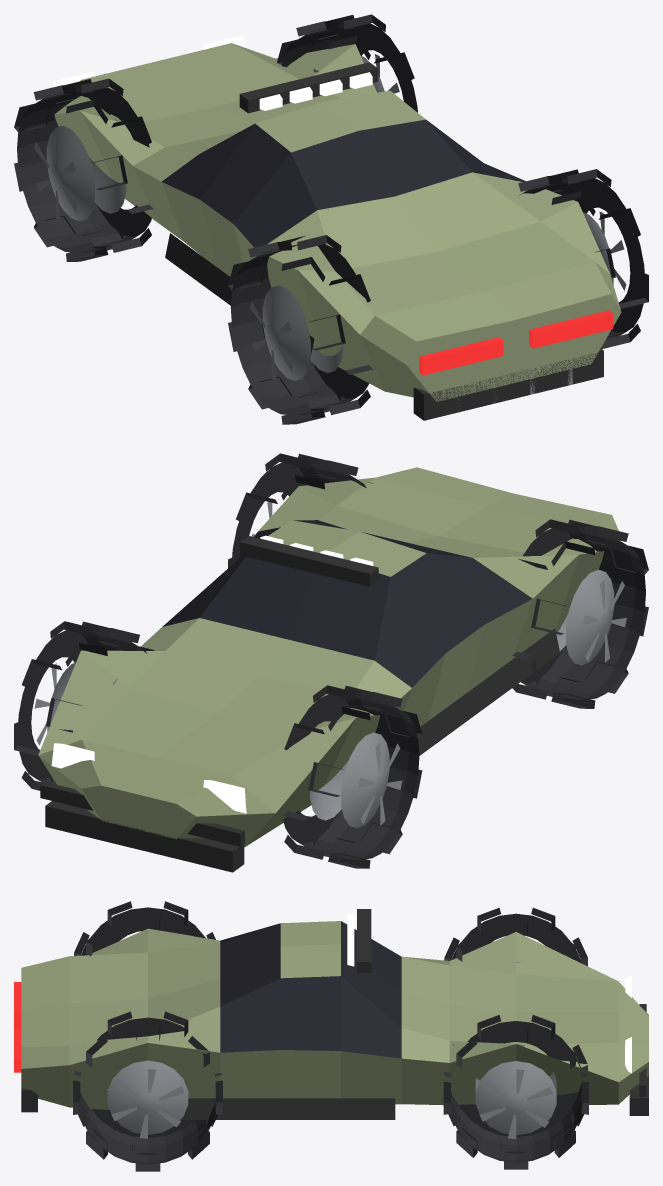
The model's file is car3.glb.
The picture shows the model from 3 angles, top to bottom: view 1: azimuth 30°, elevation 25°; view 2: azimuth 150°, elevation 25°; view 3: azimuth 270°, elevation 25°; orthographic projection. The views are drawn at different scales.
Parts seen in each view (by area): view 1: Body, Wheel_FL, Wheel_RL, Wheel_RR, Wheel_FR; view 2: Body, Wheel_FL, Wheel_RL, Wheel_FR, Wheel_RR; view 3: Body, Wheel_FR, Wheel_RR, Wheel_FL, Wheel_RL.
Part boxes in pixels (x1=…): Body: x1=53, y1=35, x2=621, y2=420; Wheel_FL: x1=14, y1=78, x2=153, y2=261; Wheel_RL: x1=228, y1=235, x2=373, y2=424; Wheel_RR: x1=518, y1=169, x2=648, y2=348; Wheel_FR: x1=277, y1=14, x2=417, y2=112; Body: x1=38, y1=467, x2=618, y2=872; Wheel_FL: x1=283, y1=685, x2=422, y2=868; Wheel_RL: x1=512, y1=519, x2=648, y2=708; Wheel_FR: x1=14, y1=621, x2=154, y2=790; Wheel_RR: x1=228, y1=453, x2=372, y2=567; Body: x1=14, y1=909, x2=648, y2=1119; Wheel_FR: x1=443, y1=1015, x2=588, y2=1169; Wheel_RR: x1=73, y1=1011, x2=222, y2=1171; Wheel_FL: x1=444, y1=907, x2=587, y2=966; Wheel_RL: x1=74, y1=901, x2=215, y2=956.
Size of the model in its own units: 2.68 by 1.54 by 5.26.
